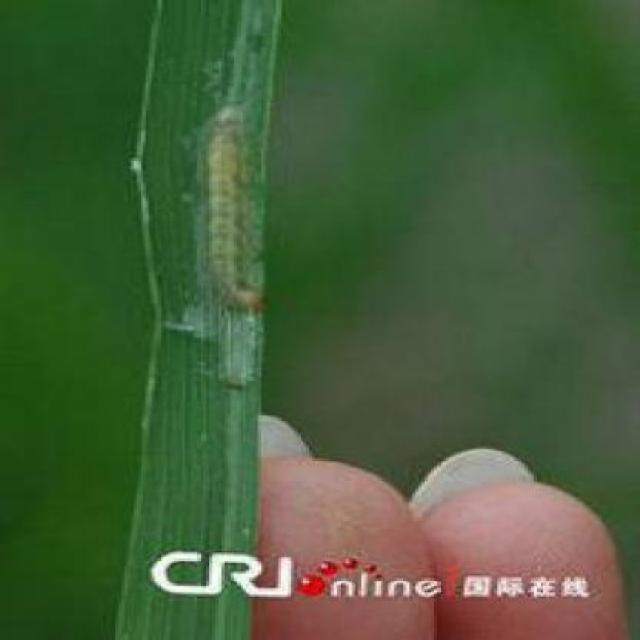leaf-folder: (159, 103, 306, 320)
